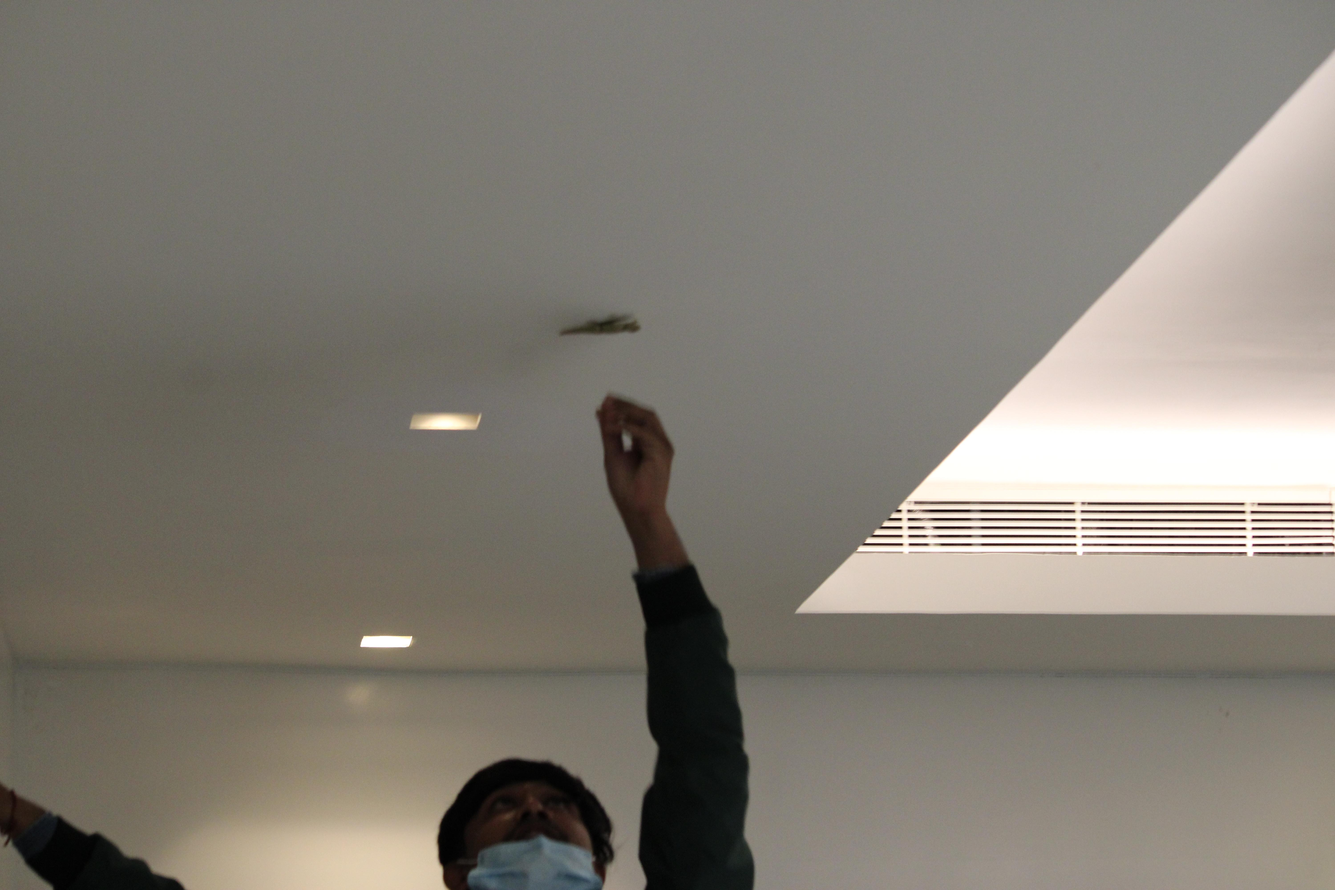lizard: (557, 301, 642, 347)
